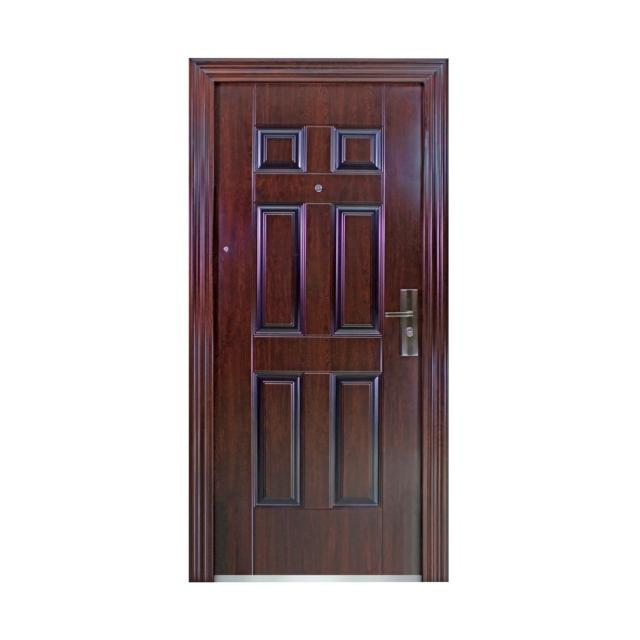door: (188, 57, 448, 582)
